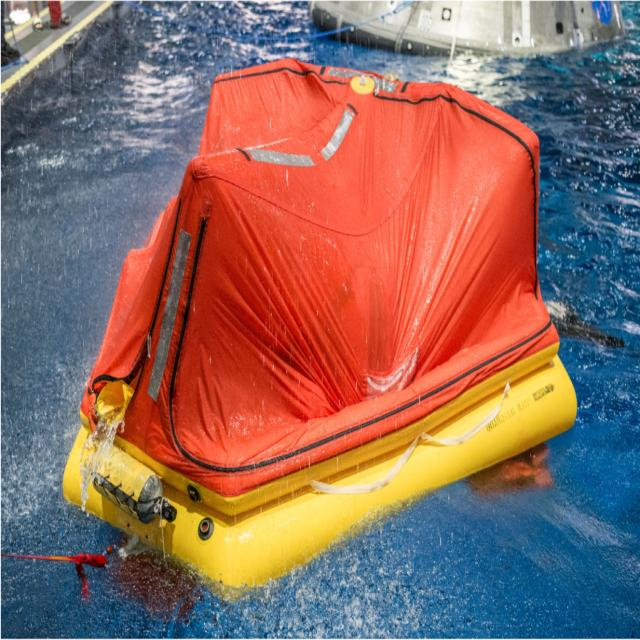Multi-person_life_raft: (63, 60, 576, 587)
Orion_capsule_mockup_ WEST _located_on_far_end_of_pool: (308, 4, 624, 56)
